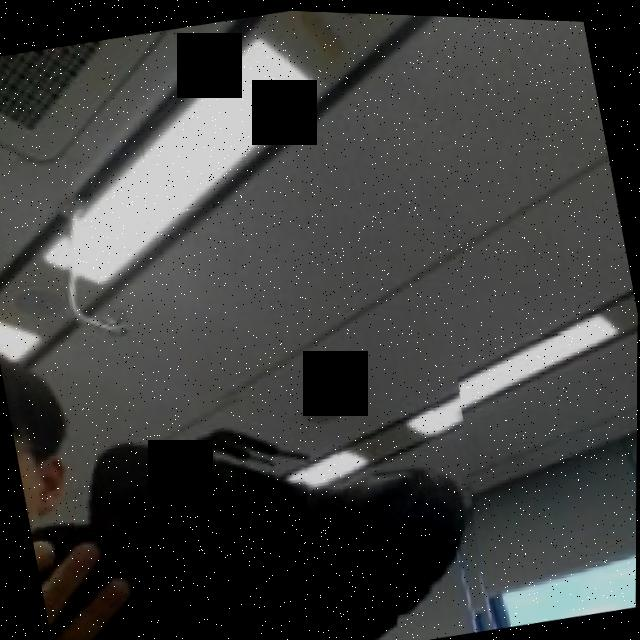shoe: (10, 339, 507, 640)
